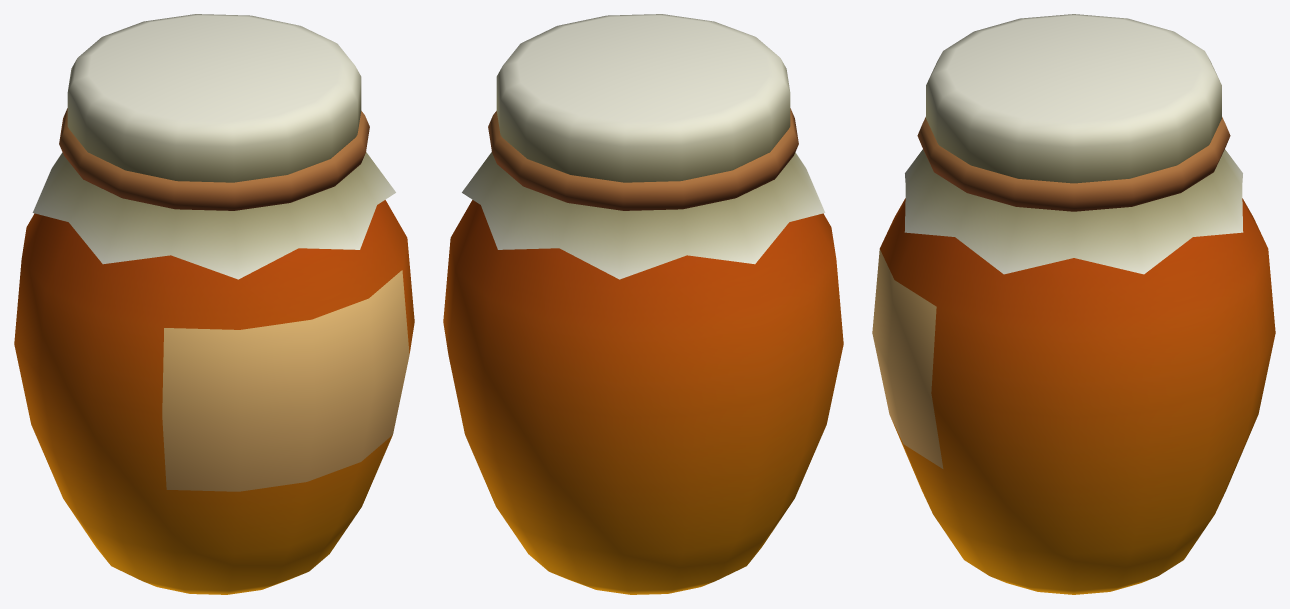
The model's file is Honey_04.glb.
3 views of the same model, side by side, from view 1: azimuth 30°, elevation 25°; view 2: azimuth 150°, elevation 25°; view 3: azimuth 270°, elevation 25° (orthographic).
Visible parts, largest first — view 1: Honey_04; view 2: Honey_04; view 3: Honey_04.
Boxes of the visible parts, x1=… form: Honey_04: x1=14, y1=14, x2=414, y2=594; Honey_04: x1=443, y1=14, x2=843, y2=594; Honey_04: x1=872, y1=14, x2=1275, y2=594.
Bounding box in the file's own units: 0.3395 × 0.4512 × 0.3395.
1 material, 1 textured.
